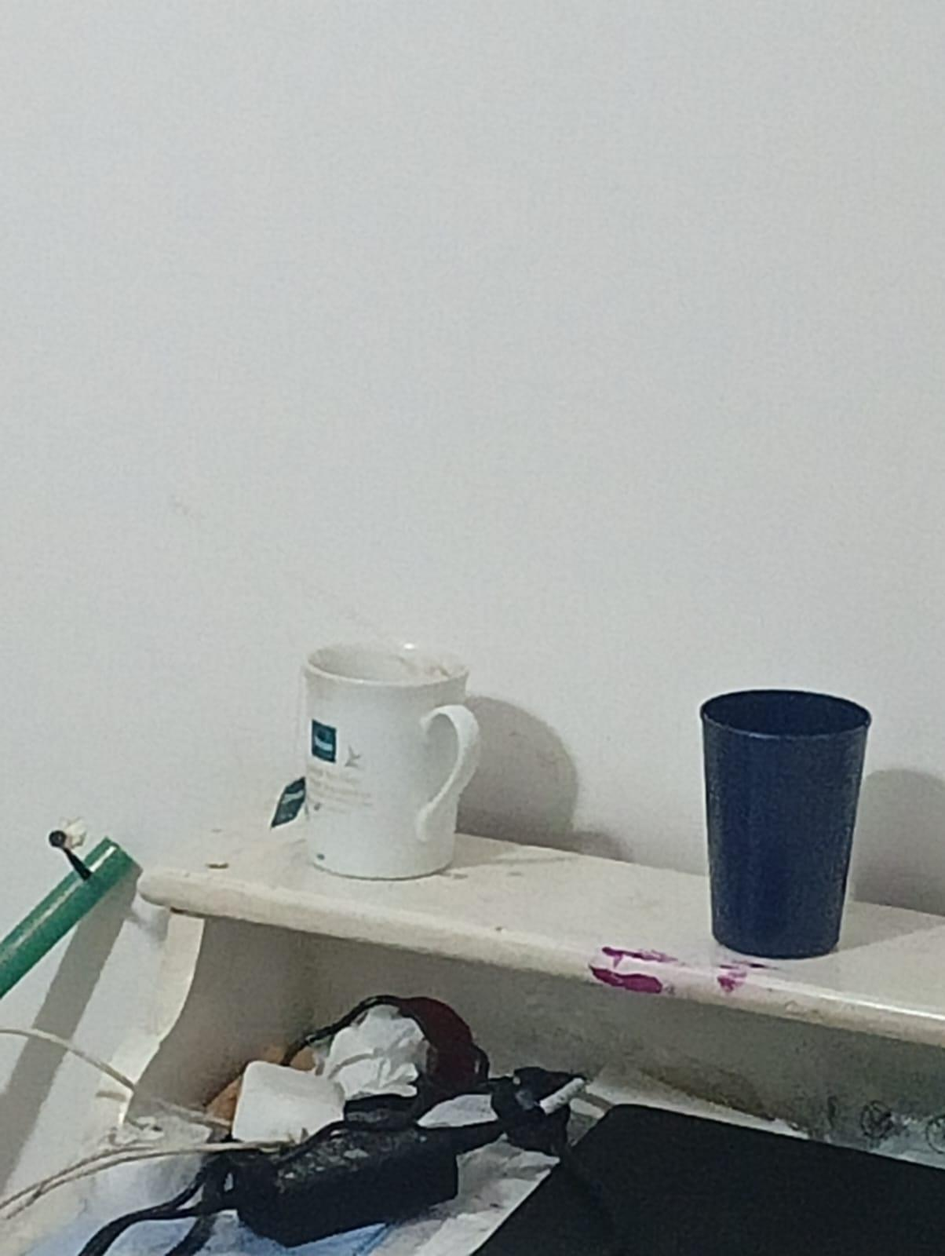cup: (305, 644, 479, 878)
